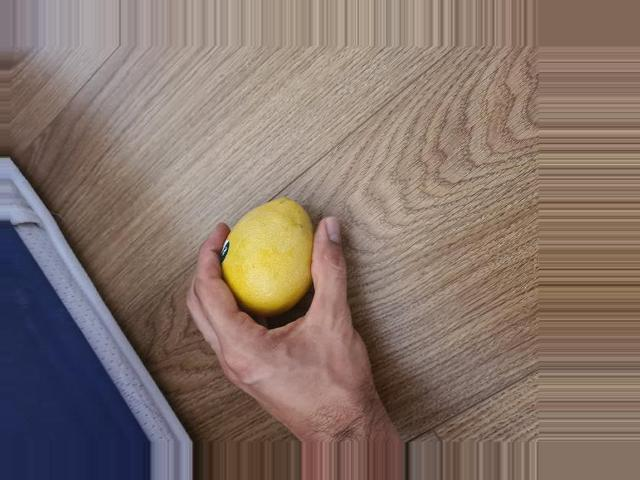lemon: (226, 195, 317, 314)
